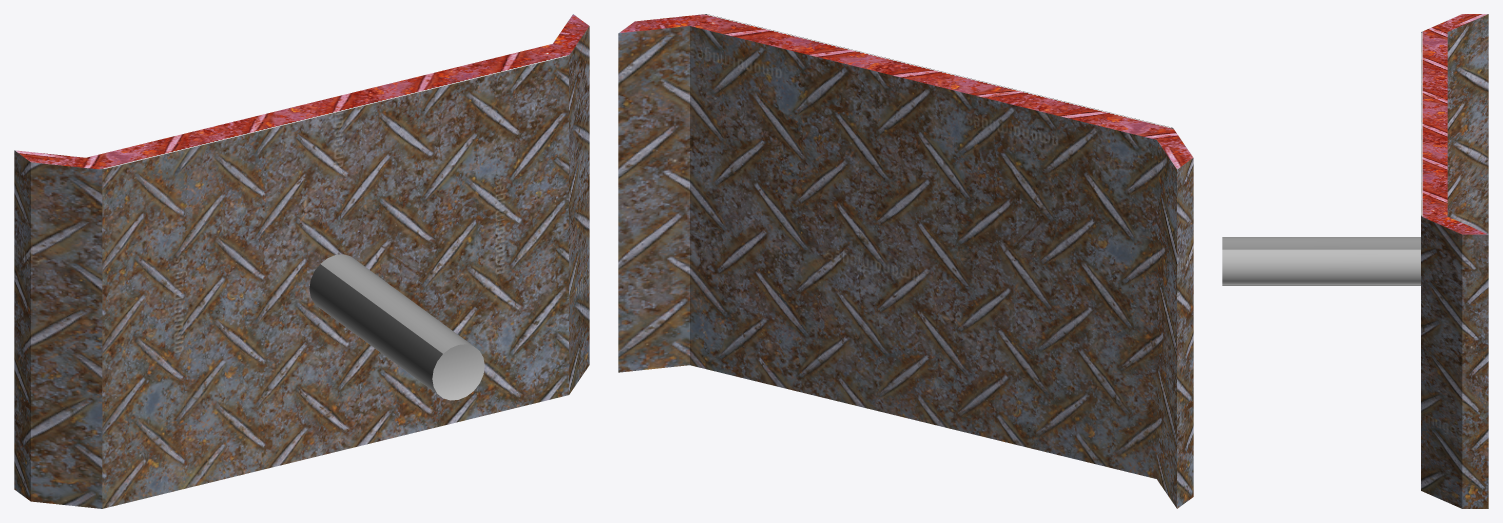
The model's file is bar.fbx.
The picture shows the model from 3 angles, left to right: view 1: azimuth 30°, elevation 25°; view 2: azimuth 150°, elevation 25°; view 3: azimuth 270°, elevation 25°; orthographic projection. The views are drawn at different scales.
Parts seen in each view (by area): view 1: pCube1, pCylinder1; view 2: pCube1; view 3: pCube1, pCylinder1.
Part boxes in pixels (x1=…): pCube1: x1=14, y1=14, x2=589, y2=508; pCylinder1: x1=309, y1=254, x2=484, y2=400; pCube1: x1=618, y1=14, x2=1193, y2=508; pCube1: x1=1421, y1=14, x2=1488, y2=508; pCylinder1: x1=1222, y1=237, x2=1420, y2=285.
Size of the model in its own units: 3.52 by 2.04 by 1.8.
Materials: 1 (1 with a texture image).
